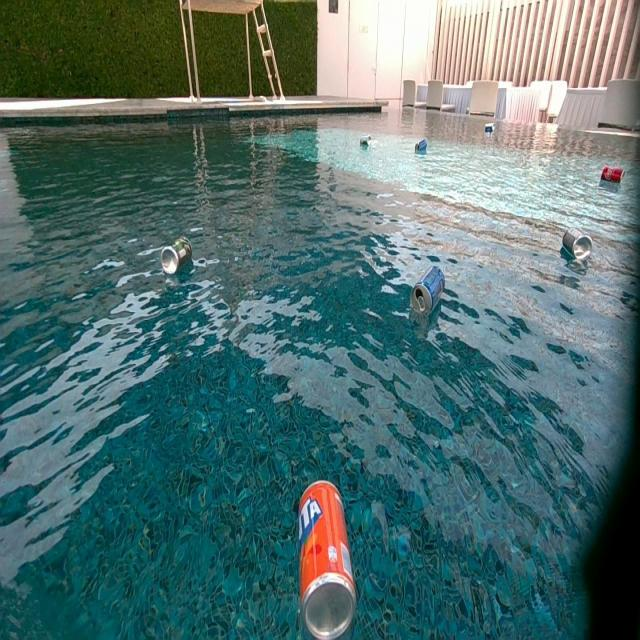Cans: (296, 478, 362, 640), (412, 264, 445, 317), (161, 240, 194, 277), (562, 230, 594, 257), (601, 167, 622, 184), (415, 139, 428, 153), (358, 136, 371, 149), (486, 126, 494, 136)
